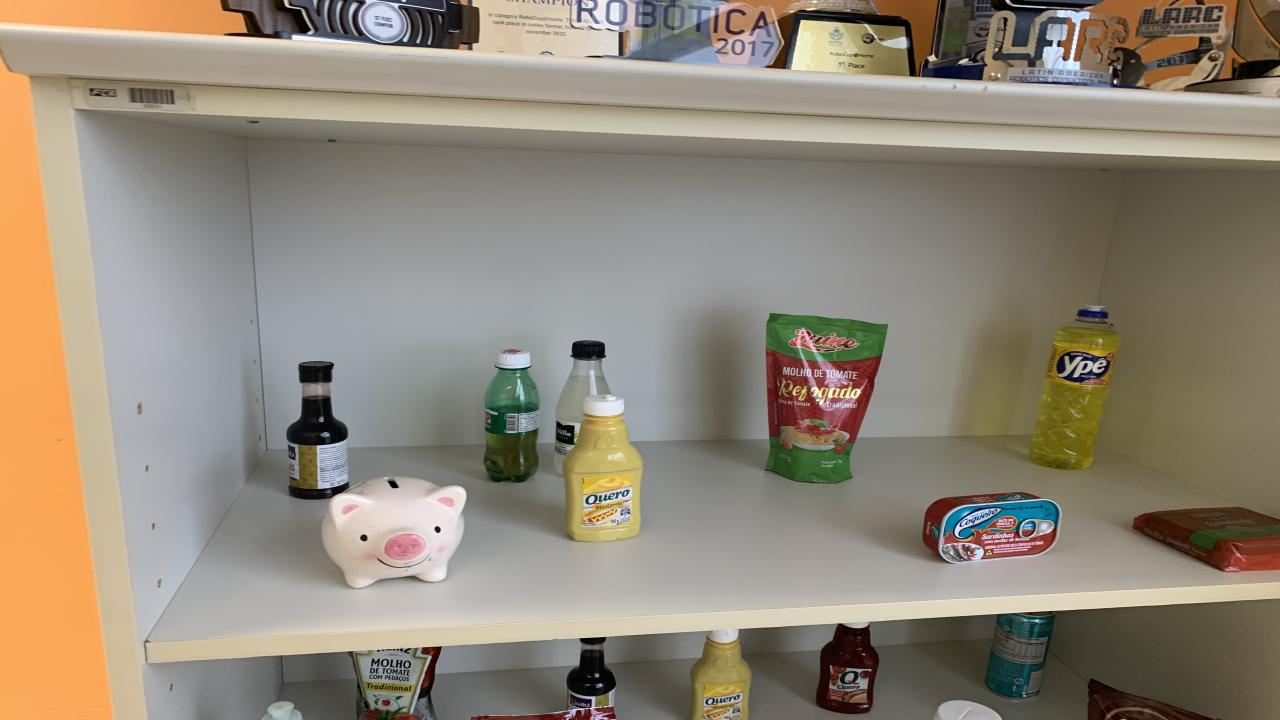Coffee-Pantry_Items: (1088, 679, 1212, 720)
Detergent-Cleanup_Items: (1030, 306, 1120, 469), (262, 701, 302, 720)
English_Sauce-Pantry_Items: (288, 362, 350, 499), (568, 638, 618, 711)
Guarana-Drinks: (485, 349, 540, 482)
Guava-Snacks: (1132, 506, 1280, 572)
Ketchup-Pantry_Items: (815, 624, 880, 714)
Mustard-Pantry_Items: (562, 394, 642, 542), (690, 630, 752, 720)
Pig_Safe-Miscellaneous: (322, 476, 468, 589)
Soda-Drinks: (555, 339, 610, 472)
Tea-Drinks: (985, 611, 1055, 699)
Tomato_Sauce-Pantry_Items: (765, 313, 888, 482), (350, 647, 442, 720)
Tuna_Can-Pantry_Items: (922, 493, 1060, 562)
